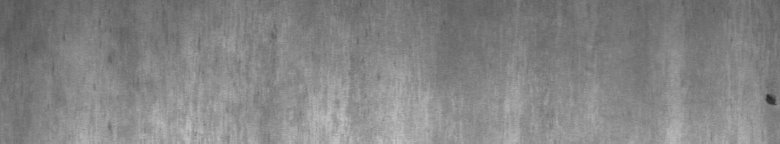fi: (760, 88, 776, 111)
